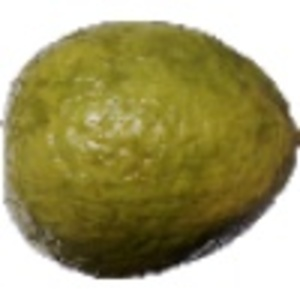goiaba: (3, 14, 297, 286)
